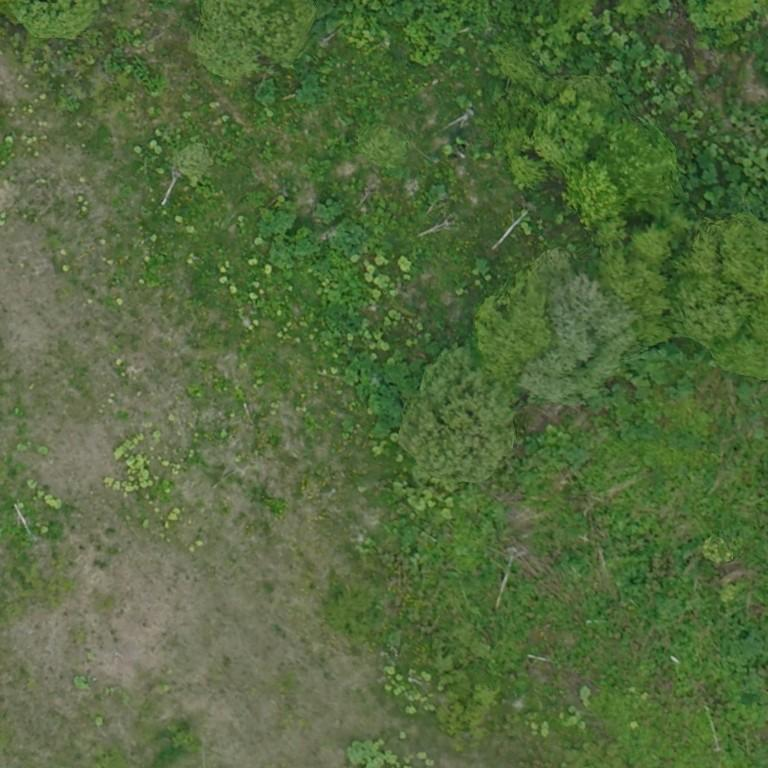hogweed: (271, 236, 320, 265), (329, 219, 366, 257), (258, 205, 296, 241), (299, 158, 330, 181), (314, 200, 345, 221)
